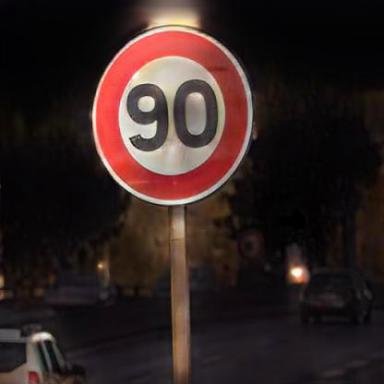Speed_limit_90: (99, 33, 248, 199)
